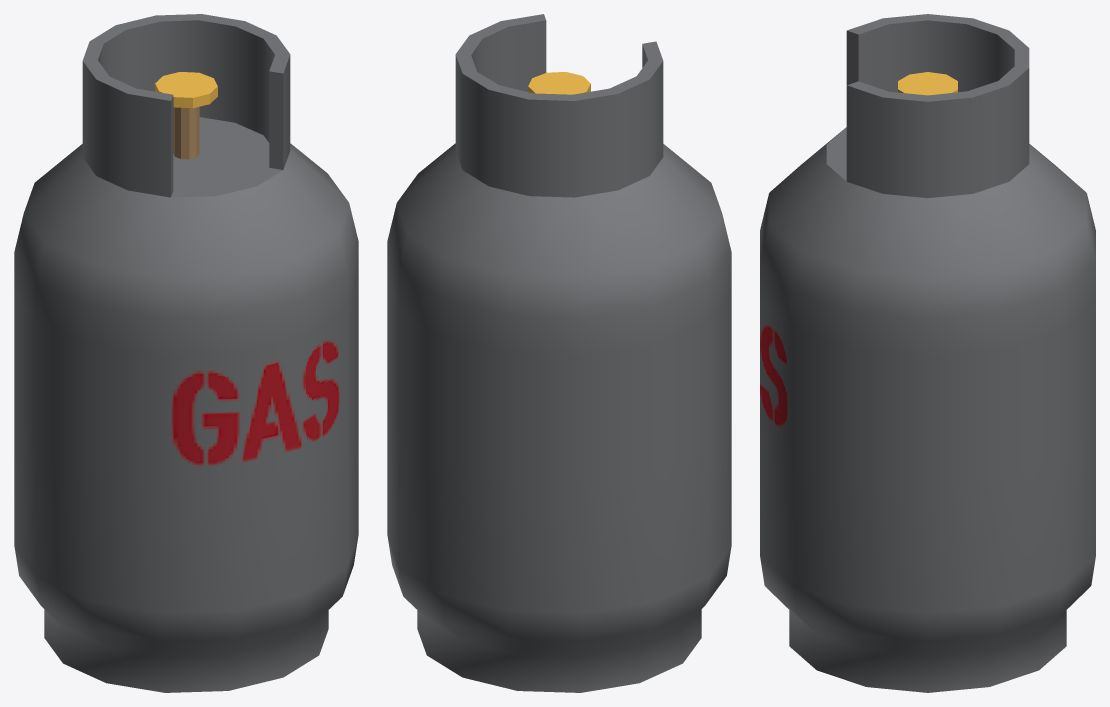
The model's file is obj_gasbarrel.fbx.
3 renders of one model, left to right at view 1: azimuth 30°, elevation 25°; view 2: azimuth 150°, elevation 25°; view 3: azimuth 270°, elevation 25°, orthographic.
Parts seen in each view (by area): view 1: obj_gasbarrel; view 2: obj_gasbarrel; view 3: obj_gasbarrel.
Part boxes in pixels (x1,y1,x2,y2): obj_gasbarrel: (14, 14, 358, 692); obj_gasbarrel: (387, 14, 731, 692); obj_gasbarrel: (760, 14, 1095, 692).
Bounding box in the file's own units: 1.05 × 1.93 × 1.02.
1 material, 1 textured.
